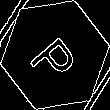P_NE: (26, 24, 84, 86)
